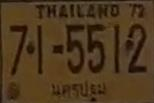1: (36, 25, 43, 76), (113, 24, 120, 71)
2: (125, 23, 149, 73)
5: (65, 23, 85, 74), (86, 23, 106, 73)
7: (9, 24, 27, 73)
NPT: (47, 77, 107, 102)
